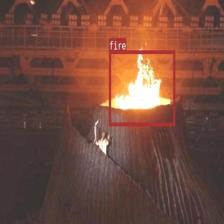fire: (108, 50, 174, 125)
